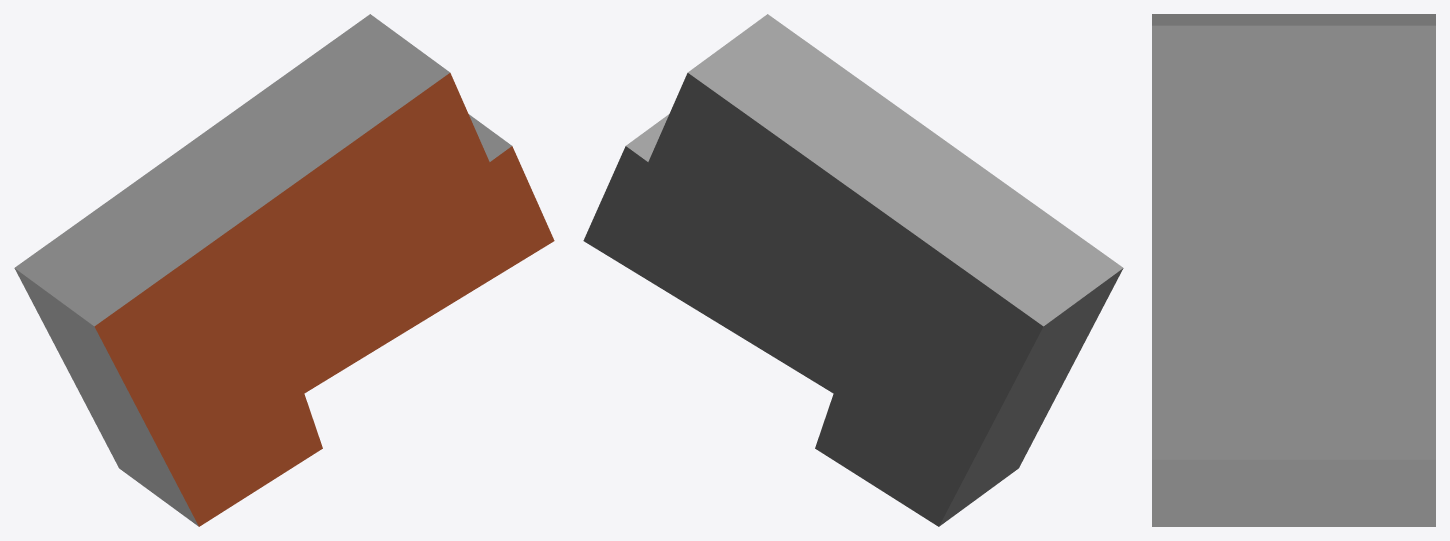
The model's file is construction_0755_assumed_A_Casa_h6m.obj.
3 views of the same model, side by side, from view 1: azimuth 30°, elevation 25°; view 2: azimuth 150°, elevation 25°; view 3: azimuth 270°, elevation 25° (orthographic). The views are drawn at different scales.
Parts seen in each view (by area): view 1: construction_0755_assumed_A_Casa; view 2: construction_0755_assumed_A_Casa; view 3: construction_0755_assumed_A_Casa.
Part boxes in pixels (x1=…): construction_0755_assumed_A_Casa: x1=14, y1=14, x2=554, y2=526; construction_0755_assumed_A_Casa: x1=583, y1=14, x2=1123, y2=526; construction_0755_assumed_A_Casa: x1=1152, y1=14, x2=1435, y2=526.
Bounding box in the file's own units: 19.92 × 16.26 × 6.
